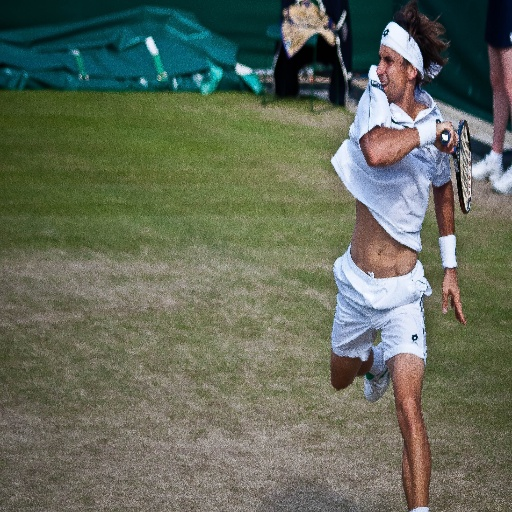hand: (450, 255, 475, 327), (433, 119, 461, 153)
